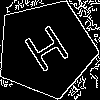H: (21, 23, 78, 82)
